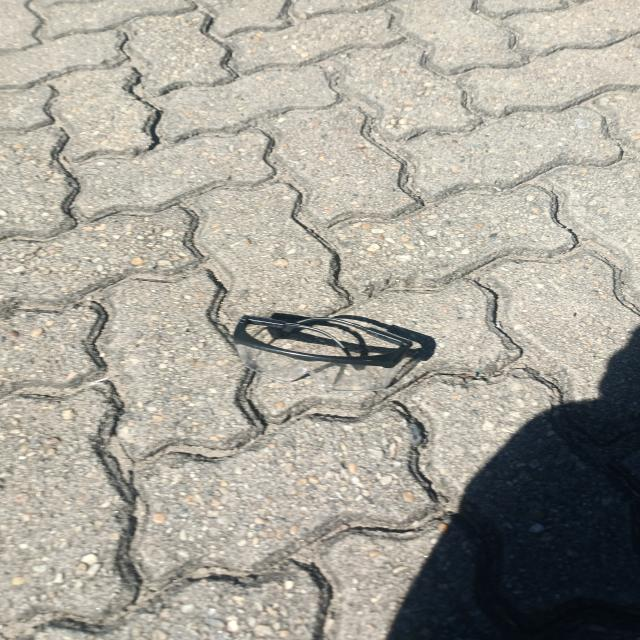oculos-epi: (234, 315, 411, 391)
